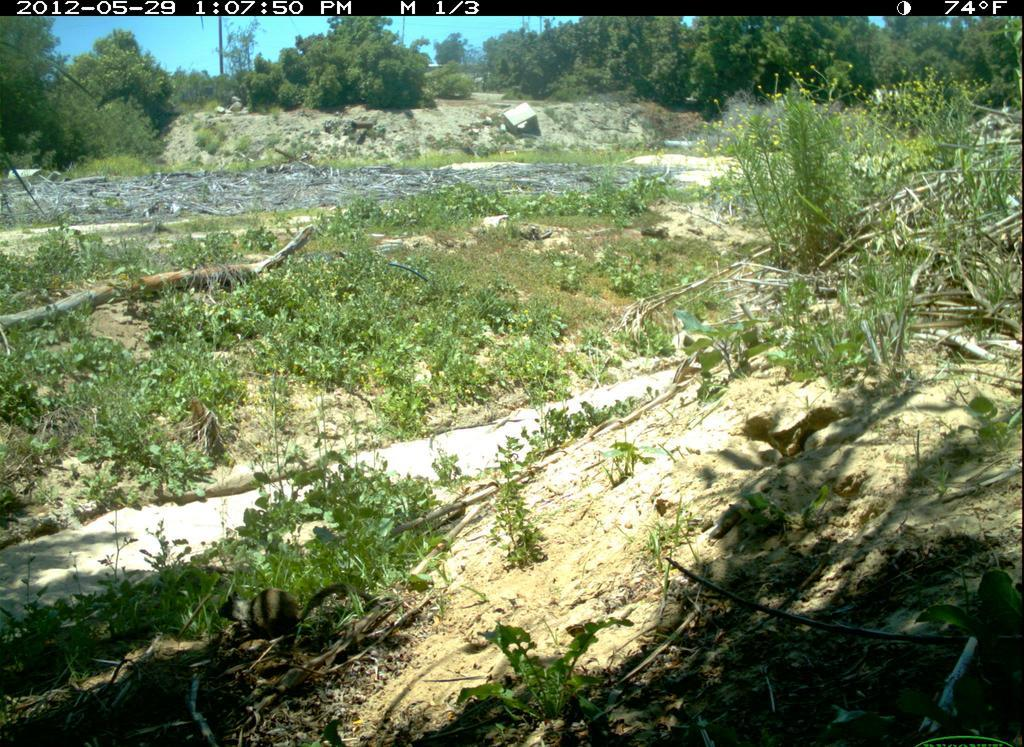squirrel: (210, 577, 361, 653)
